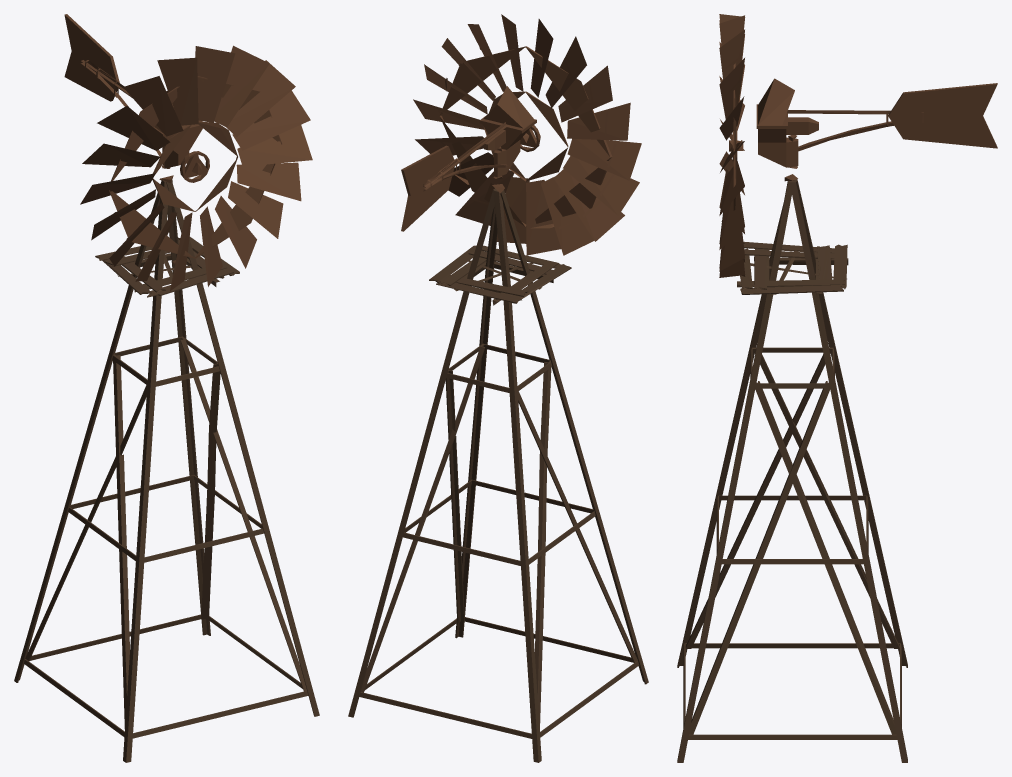
The model's file is wind-pump.lod1.glb.
3 views of the same model, side by side, from view 1: azimuth 30°, elevation 25°; view 2: azimuth 150°, elevation 25°; view 3: azimuth 270°, elevation 25° (orthographic). The views are drawn at different scales.
Parts seen in each view (by area): view 1: unterStrebe_1_low_MA_Windrad_Bottom_0; view 2: unterStrebe_1_low_MA_Windrad_Bottom_0; view 3: unterStrebe_1_low_MA_Windrad_Bottom_0.
Part boxes in pixels (bbox=[...]): unterStrebe_1_low_MA_Windrad_Bottom_0: bbox=[14, 14, 319, 762]; unterStrebe_1_low_MA_Windrad_Bottom_0: bbox=[348, 14, 648, 762]; unterStrebe_1_low_MA_Windrad_Bottom_0: bbox=[677, 14, 997, 762].
Bounding box in the file's own units: 4.15 × 12 × 5.06.
